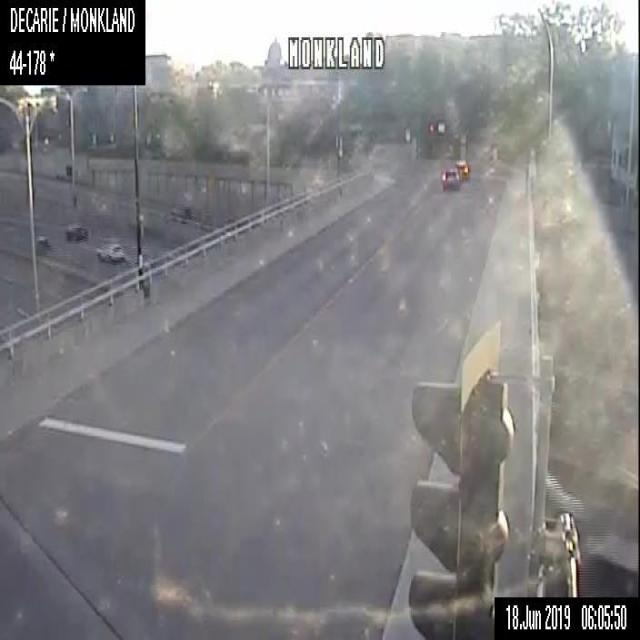vehicle: (544, 471, 584, 521), (95, 241, 124, 260), (164, 204, 190, 223), (64, 222, 88, 242), (440, 168, 459, 190), (34, 232, 52, 252), (453, 157, 470, 178)
